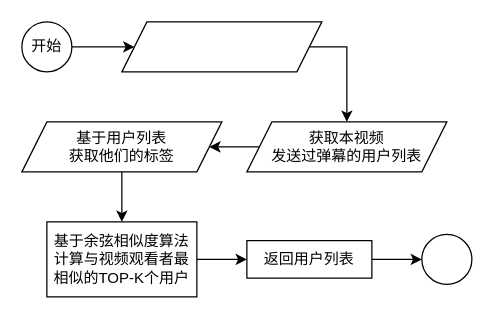
This 494x319 diagram has some shape labels left out. The box of each missing label's shape, as (x1, y1, x2, y2) in pixels:
结束: (421, 233, 472, 284)
获取视频观看者的标签: (121, 21, 322, 72)
